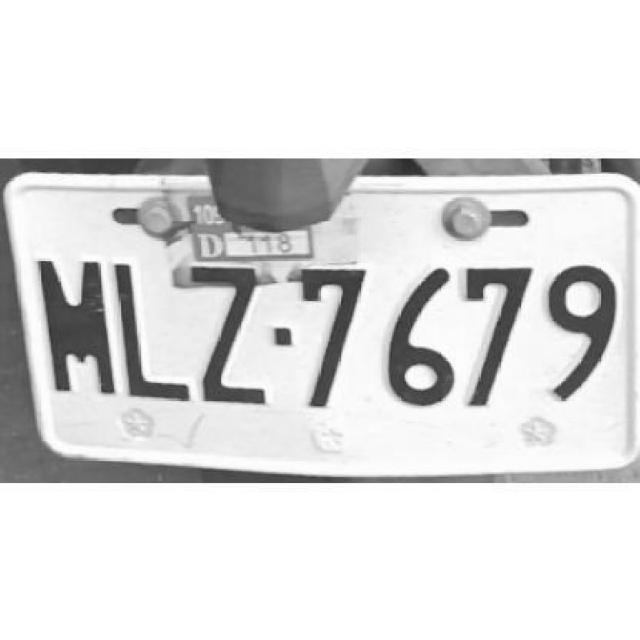-: (274, 326, 294, 345)
6: (382, 268, 456, 410)
7: (298, 266, 368, 408), (466, 268, 536, 406)
9: (548, 264, 617, 402)
L: (111, 258, 188, 396)
M: (33, 255, 115, 389)
Z: (187, 261, 265, 403)
